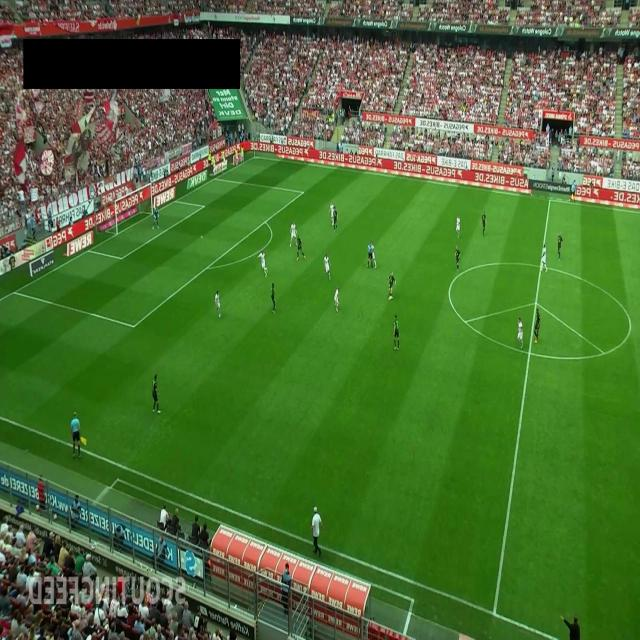ball: (388, 296, 392, 302)
goalkeeper: (152, 205, 160, 229)
player: (152, 374, 160, 414), (392, 313, 400, 350), (295, 236, 306, 261), (386, 272, 396, 299), (258, 250, 268, 276), (516, 316, 524, 348), (540, 244, 548, 272), (214, 290, 222, 318), (534, 307, 540, 343), (289, 221, 297, 248), (323, 253, 331, 280), (369, 242, 376, 268), (557, 233, 563, 261), (332, 205, 338, 232), (328, 202, 334, 228), (334, 287, 340, 313), (271, 282, 276, 312), (454, 246, 460, 270), (481, 211, 486, 237), (456, 216, 460, 238)
referee: (70, 411, 81, 459), (367, 240, 373, 268), (569, 180, 576, 202)
